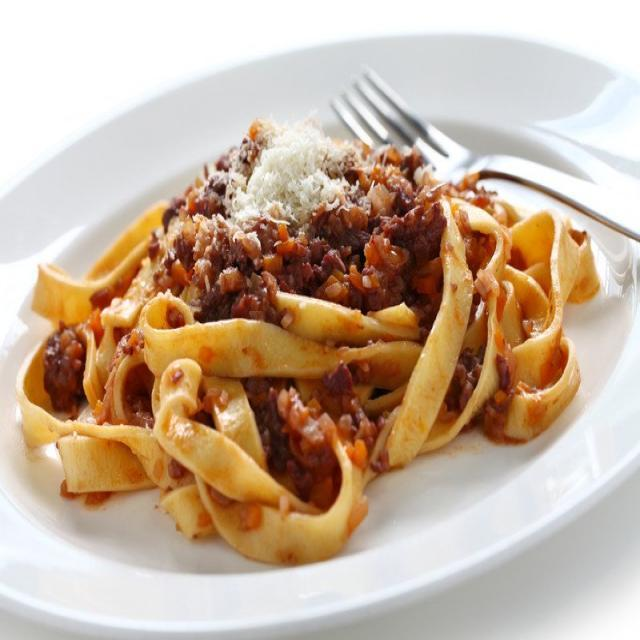Pasta al ragu: (31, 120, 613, 548)
